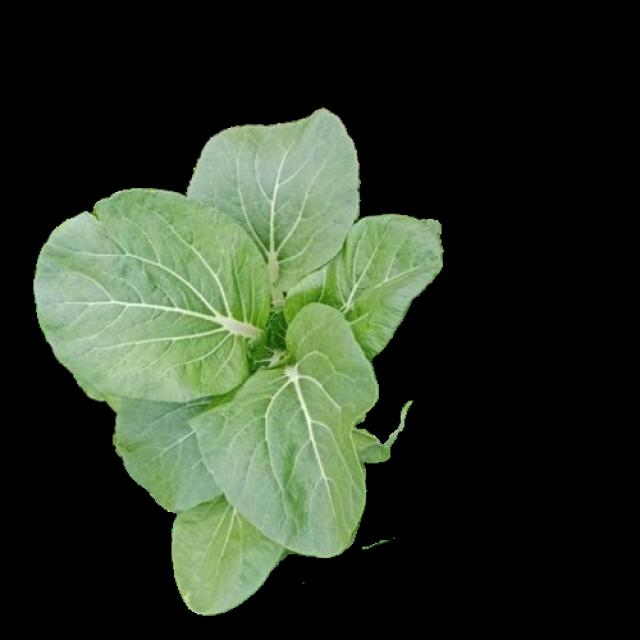healthy: (31, 109, 437, 610)
mature: (33, 111, 439, 613)
